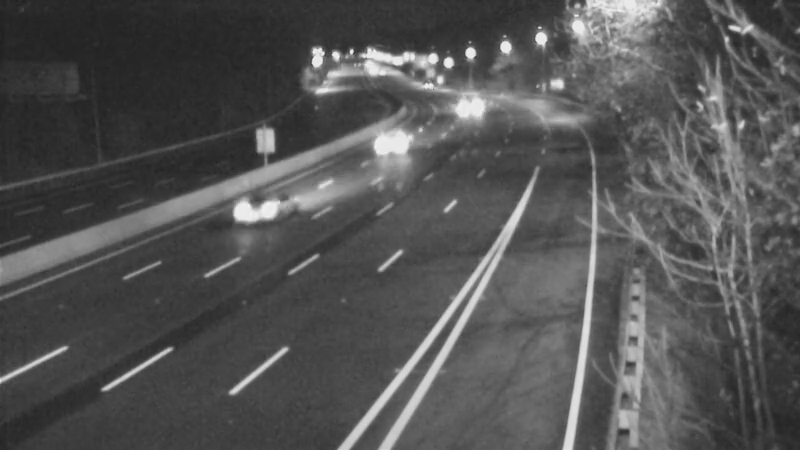vehicle: (222, 170, 302, 250), (403, 62, 453, 112), (445, 82, 495, 132), (367, 119, 417, 169)
